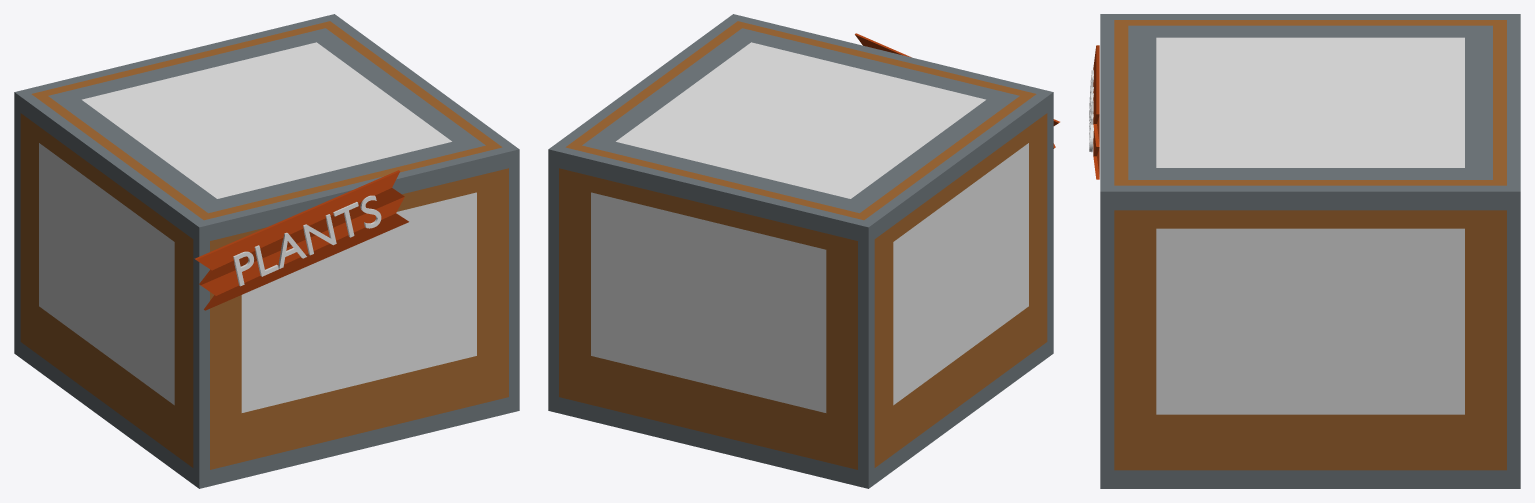
The model's file is aeroponic_1_light_fixture.fbx.
3 renders of one model, left to right at view 1: azimuth 30°, elevation 25°; view 2: azimuth 150°, elevation 25°; view 3: azimuth 270°, elevation 25°, orthographic. The views are drawn at different scales.
Visible parts, largest first — view 1: combined_light_upgrade.001, Sign Text.001; view 2: combined_light_upgrade.001; view 3: combined_light_upgrade.001.
Part boxes in pixels (<box>): combined_light_upgrade.001: <box>14,14,519,488</box>; Sign Text.001: <box>233,195,381,286</box>; combined_light_upgrade.001: <box>548,14,1059,488</box>; combined_light_upgrade.001: <box>1093,14,1520,488</box>.
Size of the model in its own units: 234 by 186 by 237.
